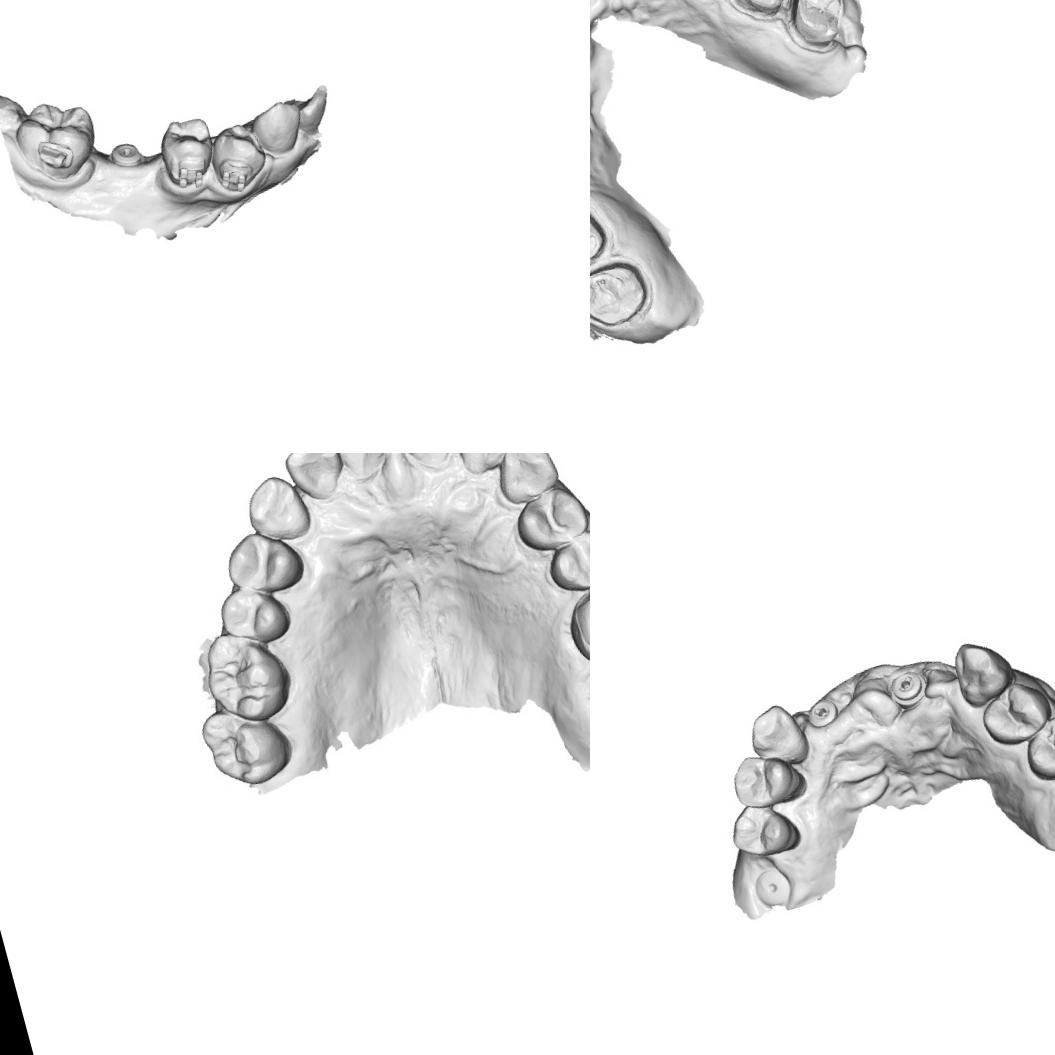canine: (946, 629, 1022, 711), (236, 468, 312, 546), (741, 696, 813, 774), (246, 92, 312, 161), (485, 453, 564, 508)
crown: (590, 252, 656, 336), (771, 0, 859, 61), (712, 0, 802, 29), (590, 196, 614, 281)
implant: (749, 861, 797, 912), (106, 136, 148, 174)
implant_minus: (882, 664, 934, 716), (802, 694, 844, 731)
incisor: (276, 453, 353, 508), (288, 80, 342, 141), (324, 453, 405, 488), (386, 453, 467, 476), (448, 453, 522, 478)
molar: (2, 87, 108, 195), (195, 694, 297, 796), (196, 620, 294, 726), (558, 568, 590, 671)
premolar: (217, 520, 309, 604), (971, 671, 1055, 752), (147, 108, 224, 196), (506, 481, 590, 559), (725, 742, 811, 815), (722, 792, 804, 866), (214, 578, 294, 652), (200, 116, 270, 198), (539, 524, 590, 597), (1015, 706, 1055, 785)
